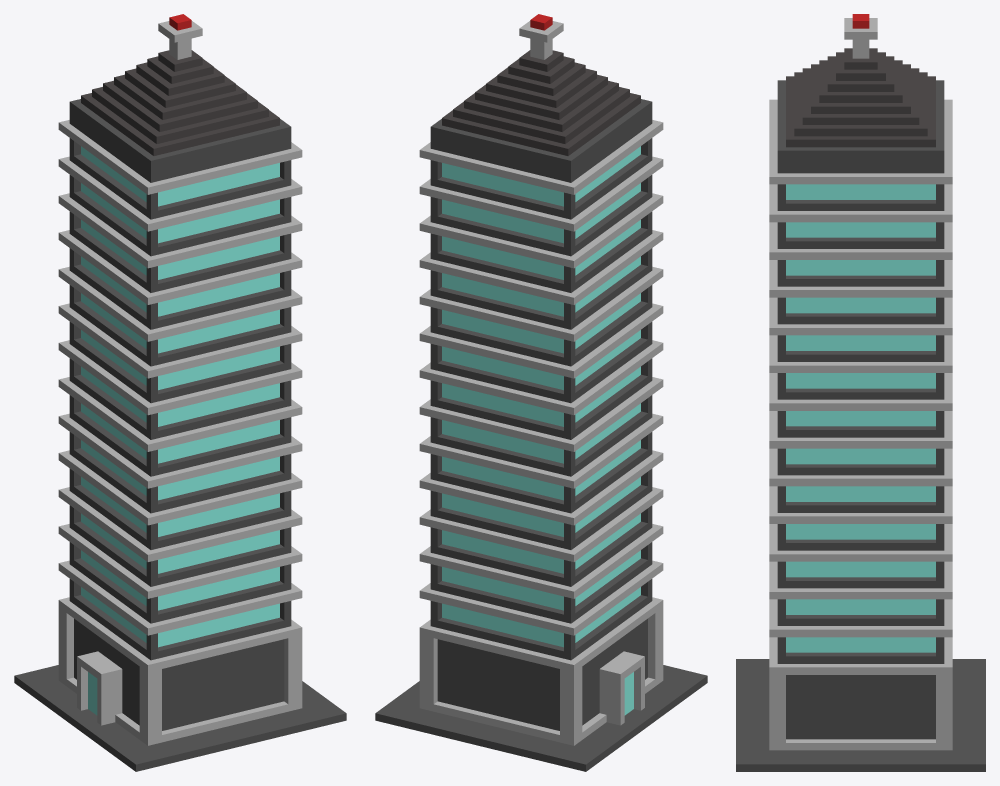
Rendered from skyscraper4.obj.
3 renders of one model, left to right at view 1: azimuth 30°, elevation 25°; view 2: azimuth 150°, elevation 25°; view 3: azimuth 270°, elevation 25°, orthographic. The views are drawn at different scales.
Size of the model in its own units: 30 by 93 by 30.
